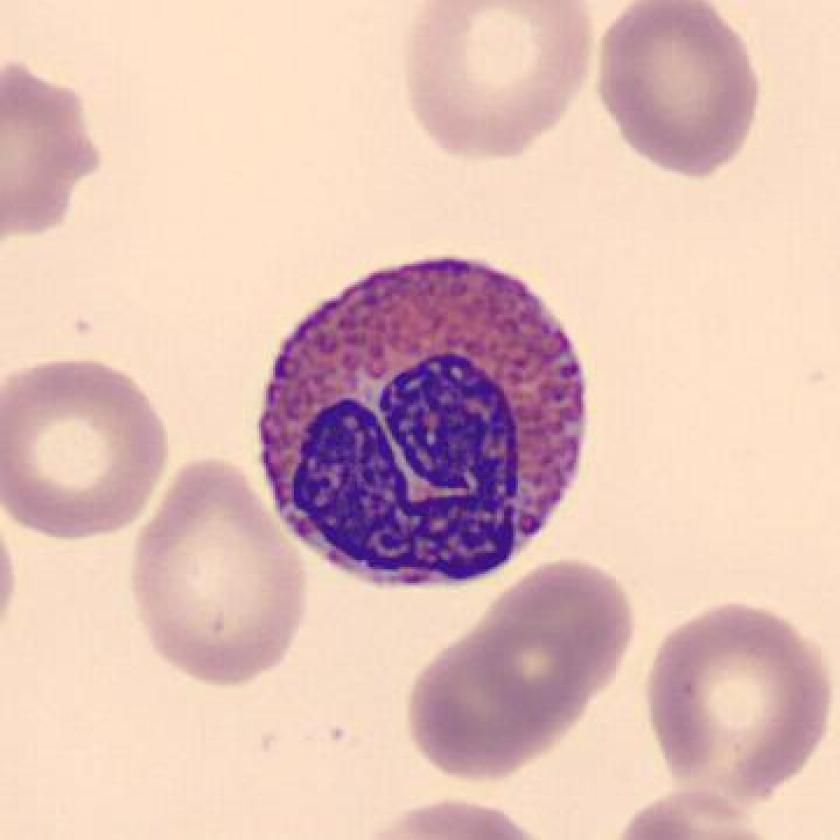eosinophil: (246, 246, 603, 603)
